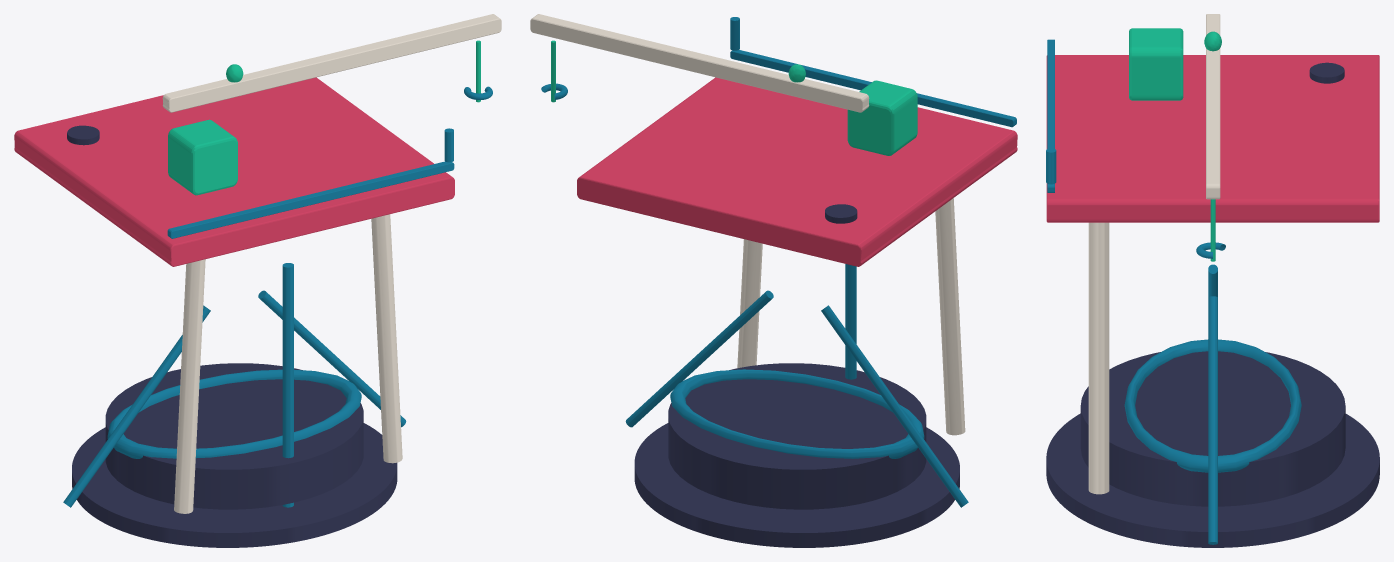
Rendered from 0404_月球图鉴_潮汐发电站.glb.
3 renders of one model, left to right at view 1: azimuth 30°, elevation 25°; view 2: azimuth 150°, elevation 25°; view 3: azimuth 270°, elevation 25°, orthographic. The views are drawn at different scales.
Visible parts, largest first — view 1: card_0404; view 2: card_0404; view 3: card_0404.
Part boxes in pixels (bbox=[...]): card_0404: bbox=[14, 14, 501, 547]; card_0404: bbox=[530, 14, 1017, 547]; card_0404: bbox=[1046, 14, 1379, 547].
Bounding box in the file's own units: 1.06 × 1 × 0.6664.
